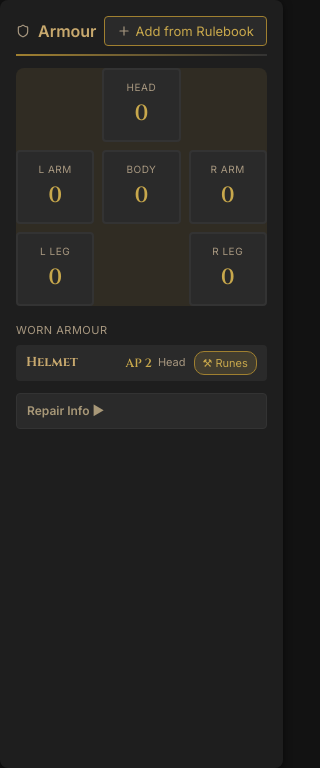
Test case: ArmourMap — location selection › shows "No armour covers this location" when no items cover selected location
Click the button with test id "location-lLeg".
click(55, 269)  # box [16, 232, 94, 306]
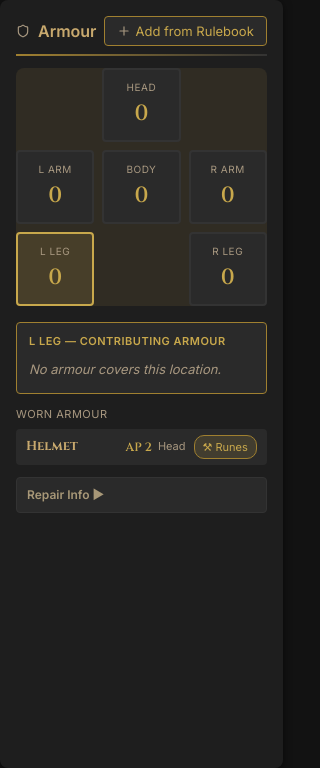
Check: the text "No armour covers this location." is shown, box [29, 360, 221, 376]
